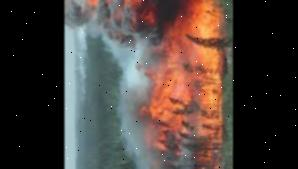fire: (141, 0, 226, 169)
